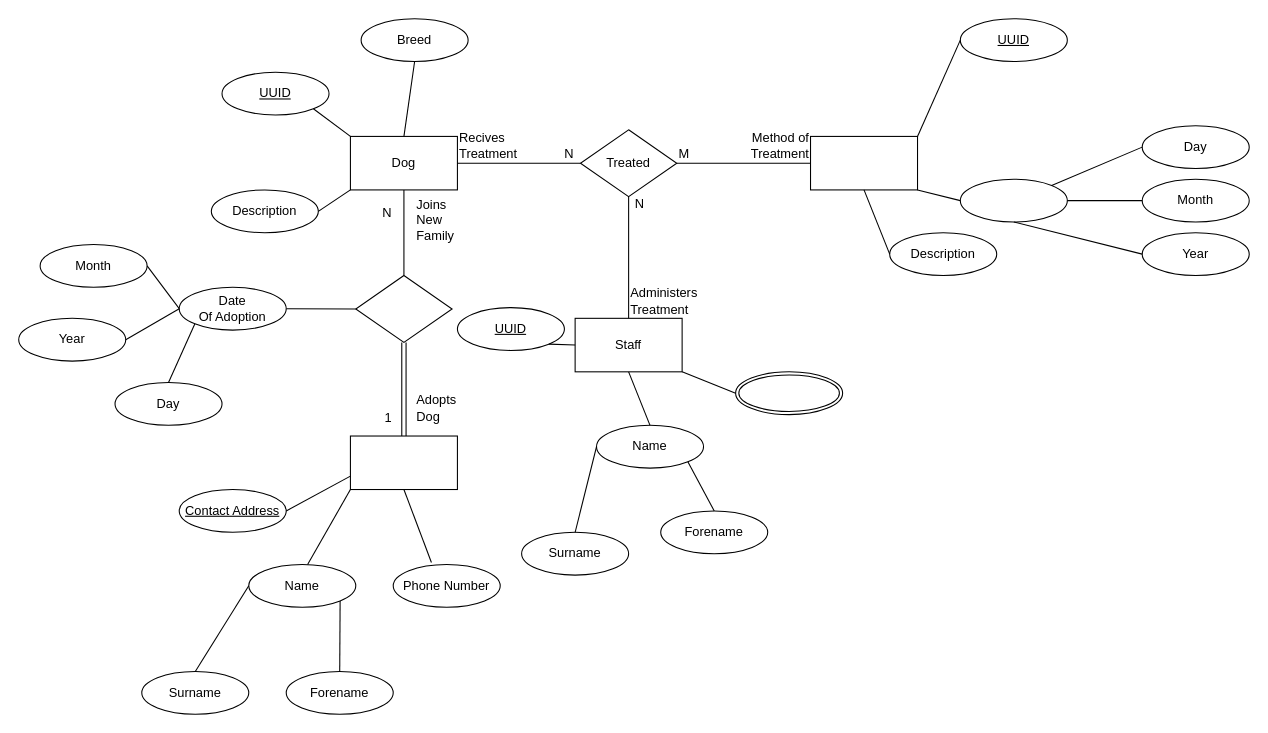
Some shapes in this 1268 by 733 pixel diagram are drawn without their labels. Here are the shapes that lost their labels. From the top down, the centre of each, then its label:
At (x=863, y=162): "Treatment".
At (x=1013, y=200): "Date".
At (x=403, y=308): "Adopted".
At (x=789, y=393): "Role".
At (x=403, y=462): "New Owners".
